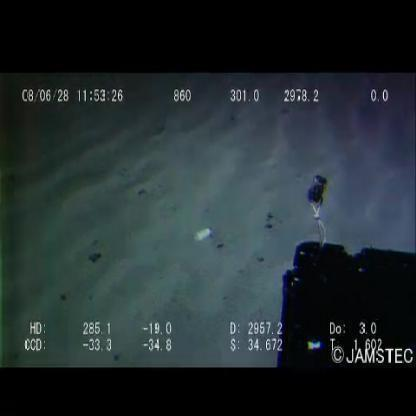Rác: (193, 227, 215, 247)
